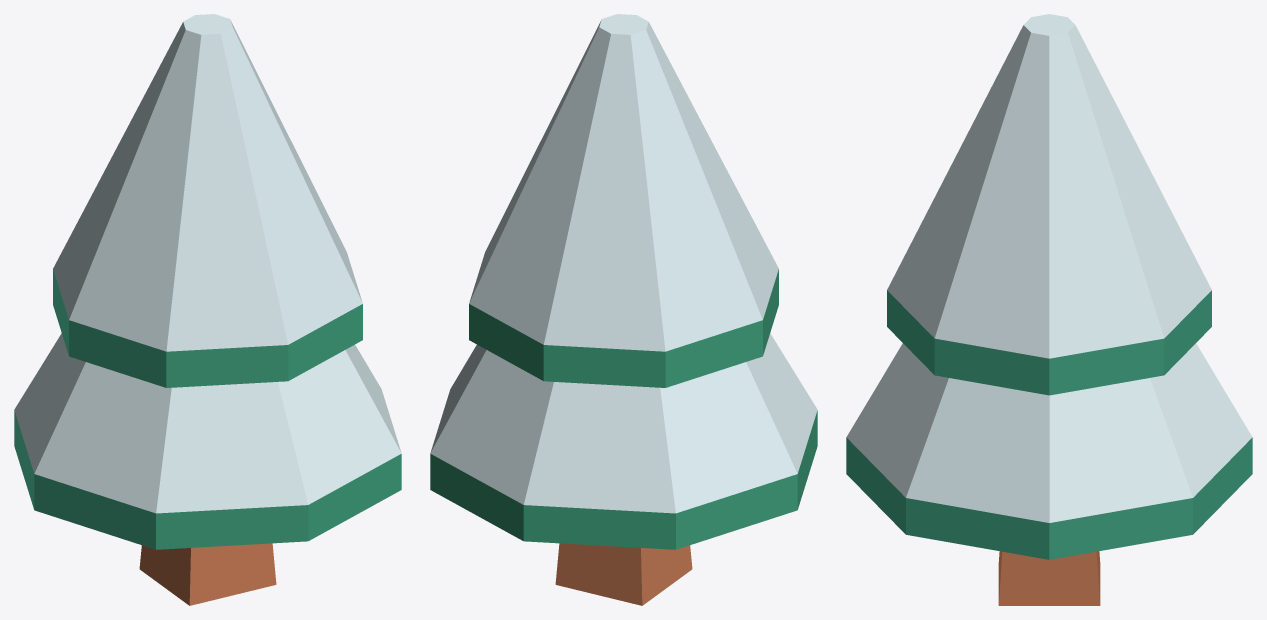
The model's file is d_kenney_sapin_neige_grand.glb.
3 renders of one model, left to right at view 1: azimuth 30°, elevation 25°; view 2: azimuth 150°, elevation 25°; view 3: azimuth 270°, elevation 25°, orthographic.
Visible parts, largest first — view 1: d_kenney_sapin_neige_grand; view 2: d_kenney_sapin_neige_grand; view 3: d_kenney_sapin_neige_grand.
Part boxes in pixels (x1=…): d_kenney_sapin_neige_grand: x1=14, y1=14, x2=401, y2=605; d_kenney_sapin_neige_grand: x1=430, y1=14, x2=817, y2=605; d_kenney_sapin_neige_grand: x1=846, y1=14, x2=1252, y2=605.
Bounding box in the file's own units: 0.5 × 0.76 × 0.5.
1 material, 1 textured.
